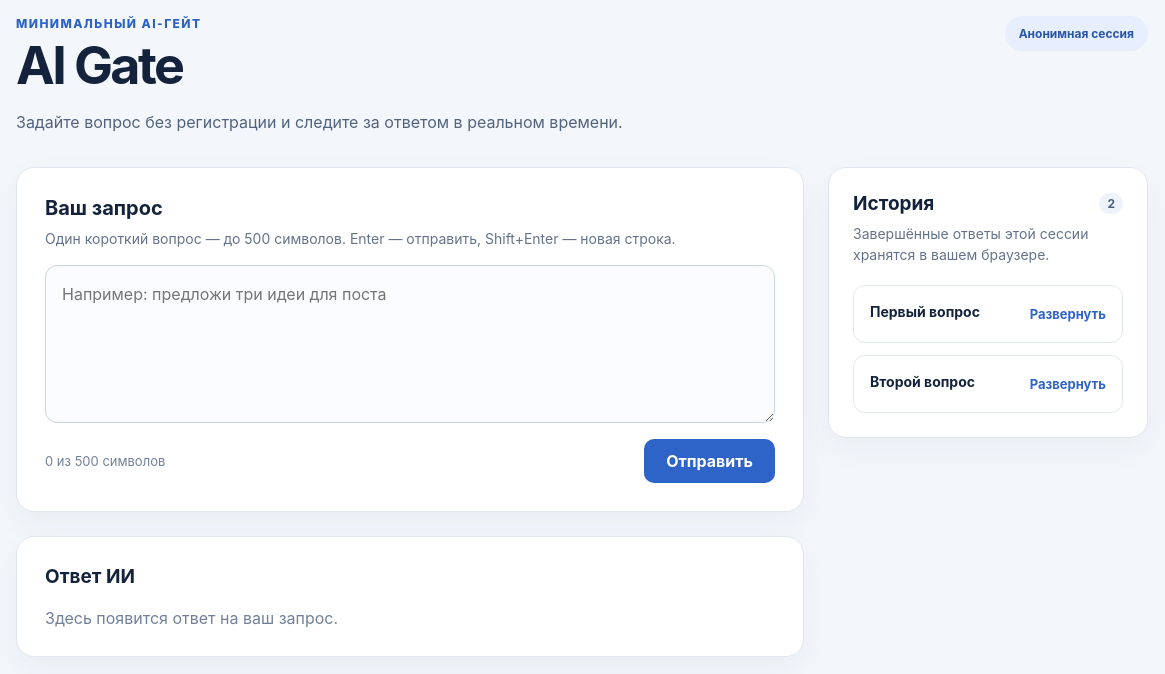
Test: сворачивание ответов в истории › раскрывает две карточки независимо
Click the button "Развернуть" next to "Первый вопрос" at (1068, 314), box [1030, 302, 1106, 326]
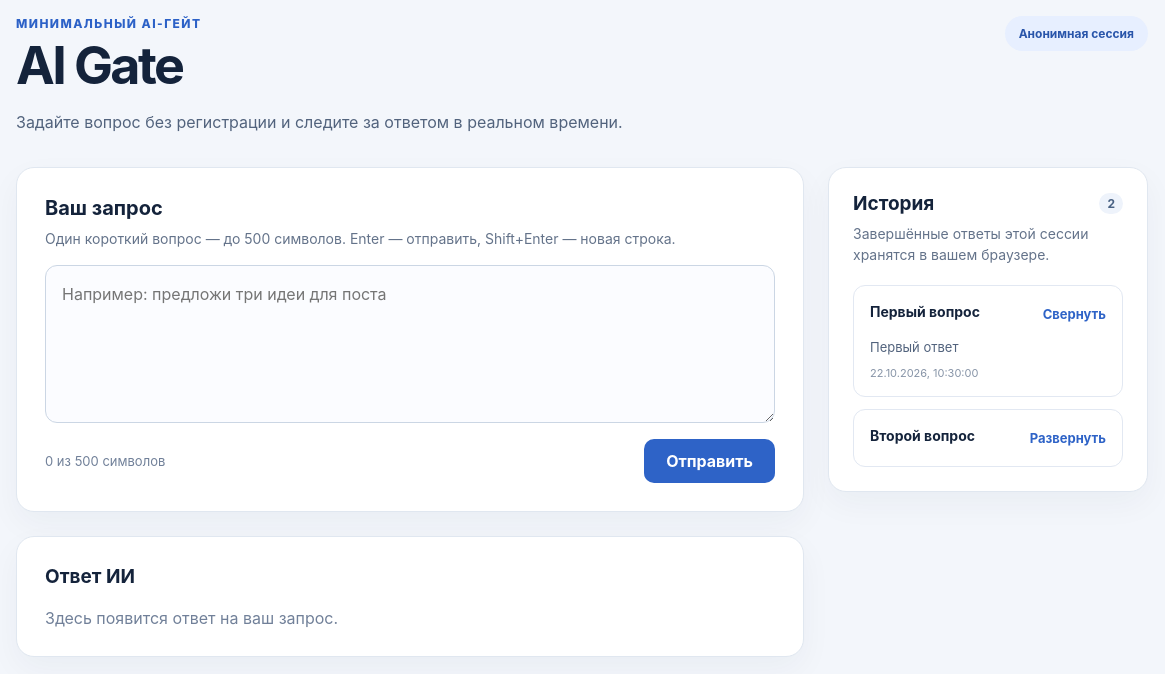
Expected: the text "Второй ответ" is not shown
Result: the text "Первый ответ" is shown at [870, 339, 958, 355]
Click the button "Развернуть" at (1068, 438), box [1030, 426, 1106, 450]
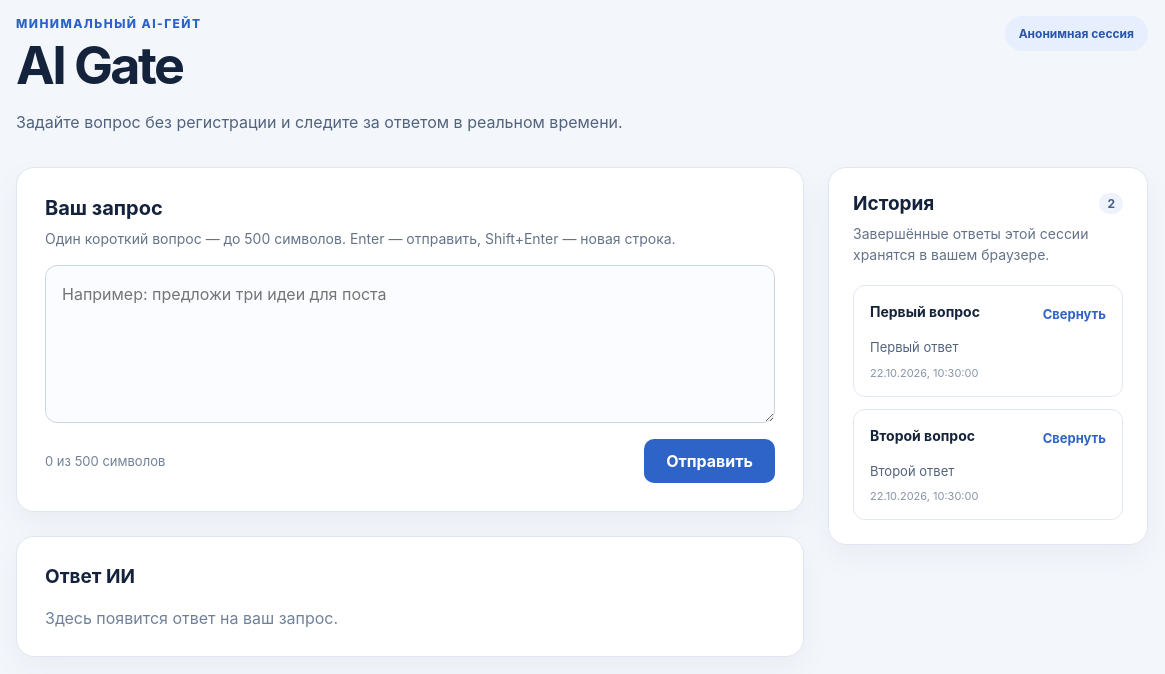
Click the button "Свернуть" next to "Первый вопрос" at (1074, 314), box [1043, 302, 1106, 326]
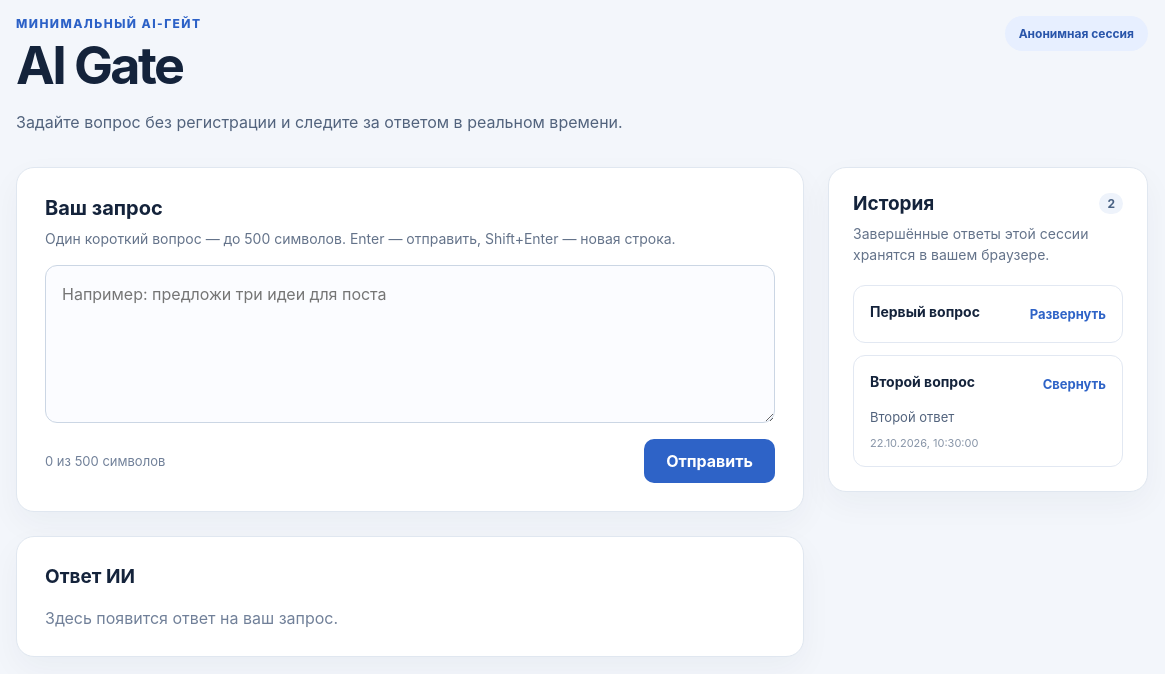
Result: the text "Второй ответ" is shown at [870, 409, 954, 425]
Result: the text "Первый ответ" is gone
